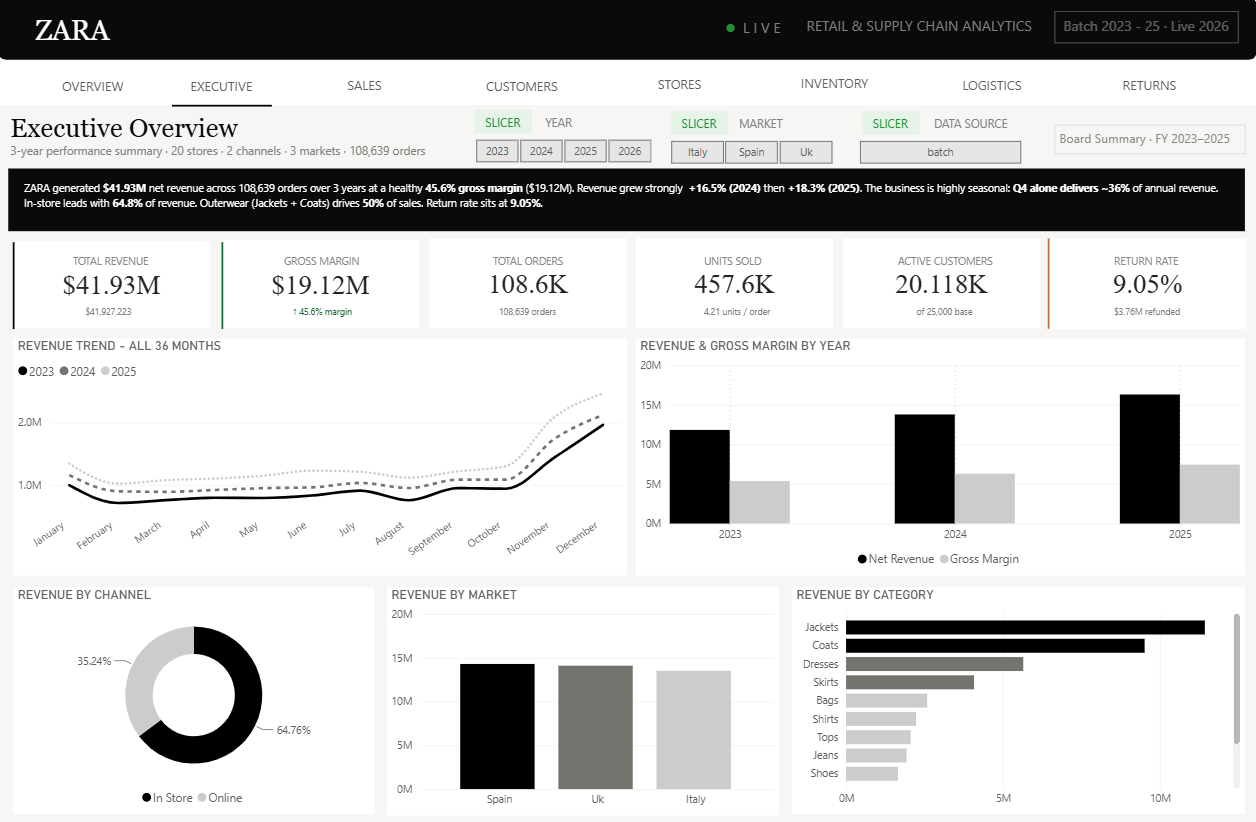

What the dashboard file says about the page in this screenshot:
{"tool":"powerbi","page":{"name":"EXECUTIVE","canvas":[1440,950],"ordinal":1},"visuals":[{"type":"shape","box":[1.7,1.7,1438.3,71.7],"z":0},{"type":"textbox","box":[39.2,16.2,112.2,48.6],"z":1000},{"type":"shape","box":[0,73.3,1440,51.7],"z":2000},{"type":"textbox","box":[10,129.1,292.7,50.9],"z":3000},{"type":"textbox","box":[10,162.7,527.3,29.1],"z":4000},{"type":"textbox","box":[1208.3,146.7,218.3,33.3],"z":5000},{"type":"shape","box":[13.3,196.7,1413.3,71.7],"z":6000},{"type":"textbox","box":[26.1,204.3,1382.6,58],"z":7000},{"type":"card","fields":{"Values":["_Measures.Active Customers"]},"box":[967.7,277.7,224.6,102.3],"z":8000},{"type":"card","fields":{"Values":["_Measures.Units Sold"]},"box":[730,277.7,225.4,102.3],"z":9000},{"type":"card","fields":{"Values":["_Measures.Net Revenue"]},"box":[18.5,280,224.6,100],"z":10000},{"type":"card","fields":{"Values":["_Measures.Gross Margin"]},"box":[256.9,279.2,225.4,100.8],"z":11000},{"type":"card","fields":{"Values":["_Measures.Total Orders"]},"box":[493.8,277.7,225.4,102.3],"z":12000},{"type":"shape","box":[12.3,280.8,12.3,99.2],"z":13000},{"type":"shape","box":[250.8,280.8,12.3,99.2],"z":14000},{"type":"textbox","box":[80.8,288.5,109.2,29.2],"z":15000},{"type":"textbox","box":[95.4,346.2,71.5,29.2],"z":16000},{"type":"textbox","box":[323.1,288.5,110,29.2],"z":17000},{"type":"textbox","box":[561.5,288.5,92.3,29.2],"z":18000},{"type":"textbox","box":[803.1,288.5,90.8,29.2],"z":19000},{"type":"textbox","box":[803.1,346.2,90.8,27.7],"z":20000},{"type":"textbox","box":[1023.8,288.5,139.2,29.2],"z":21000},{"type":"textbox","box":[1045.4,346.2,86.9,27.7],"z":22000},{"type":"card","fields":{"Values":["_Measures.Return Rate"]},"box":[1202.3,276.9,224.6,103.1],"z":23000},{"type":"textbox","box":[1271.5,288.5,96.9,29.2],"z":24000},{"type":"textbox","box":[1271.5,346.2,96.9,27.7],"z":25000},{"type":"shape","box":[1196.2,276.9,12.3,103.1],"z":26000},{"type":"textbox","box":[333.1,346.2,80.8,27.7],"z":27000},{"type":"textbox","box":[569.2,346.2,84.6,27.7],"z":28000},{"type":"lineChart","title":"REVENUE TREND - ALL 36 MONTHS","fields":{"Category":["gold dim_date.full_date.Variation.Date Hierarchy.Year","gold dim_date.full_date.Variation.Date Hierarchy.Quarter","gold dim_date.full_date.Variation.Date Hierarchy.Month","gold dim_date.full_date.Variation.Date Hierarchy.Day"],"Series":["gold dim_date.year"],"Y":["_Measures.Net Revenue"]},"box":[18.8,391.3,701.4,271],"z":29000},{"type":"clusteredColumnChart","title":"REVENUE & GROSS MARGIN BY YEAR","fields":{"Category":["gold dim_date.full_date.Variation.Date Hierarchy.Year"],"Y":["_Measures.Net Revenue","_Measures.Gross Margin"]},"box":[730.4,391.3,695.7,271],"z":30000},{"type":"donutChart","title":"REVENUE BY CHANNEL","fields":{"Category":["gold dim_channel.channel_name"],"Y":["_Measures.Net Revenue"]},"box":[18.8,675.4,413,259.4],"z":31000},{"type":"columnChart","title":"REVENUE BY MARKET","fields":{"Category":["gold dim_customers.country"],"Y":["_Measures.Net Revenue"]},"box":[446.4,675.4,447.8,260.9],"z":32000},{"type":"barChart","title":"REVENUE BY CATEGORY","fields":{"Category":["gold dim_products.category"],"Y":["_Measures.Net Revenue"]},"box":[908.7,675.4,517.4,259.4],"z":33000},{"type":"shape","box":[200,103,114,45],"z":34000},{"type":"actionButton","box":[182.9,75.7,147.4,53.9],"z":35000},{"type":"actionButton","box":[330.4,74.3,179.7,54.1],"z":36000},{"type":"actionButton","box":[510.1,75.7,179.7,54.1],"z":37000},{"type":"actionButton","box":[689.6,73.2,180,54.7],"z":38000},{"type":"actionButton","box":[867.5,71.6,180,54.7],"z":39000},{"type":"actionButton","box":[1047.6,73.8,180,54.3],"z":40000},{"type":"actionButton","box":[1226.7,75,180,54.4],"z":41000},{"type":"actionButton","box":[35.6,75.6,147.4,53.7],"z":42000},{"type":"textbox","box":[1208.3,16.7,210,36.7],"z":43000},{"type":"textbox","box":[911.7,16.7,283.3,36.7],"z":44000},{"type":"textbox","box":[826.7,16.7,85,36.7],"z":45000},{"type":"slicer","fields":{"Values":["gold fact_sales.source_system"]},"box":[960,158.5,234.6,34.6],"z":46000},{"type":"textbox","box":[988.2,130.9,65.5,27.3],"z":47000},{"type":"textbox","box":[1065.4,131.2,107.5,27.2],"z":48000},{"type":"slicer","fields":{"Values":["gold dim_customers.country"]},"box":[743.6,158.2,234.5,34.5],"z":49000},{"type":"textbox","box":[770,130.9,65.5,27.3],"z":50000},{"type":"textbox","box":[842.2,131.1,70,31.1],"z":51000},{"type":"slicer","fields":{"Values":["gold dim_date.full_date.Variation.Date Hierarchy.Year"]},"box":[520.9,157.3,250,34.5],"z":52000},{"type":"textbox","box":[546.4,130,65.5,27.3],"z":53000},{"type":"textbox","box":[620.9,130,49.1,27.3],"z":54000}]}

Visuals, with their boxes in screenshot pixels (x1, y1, x2, y2), scaled from the page's 1440x950 canvas onto the 1256x822 screenshot:
shape: x1=1 y1=1 x2=1255 y2=64
textbox: x1=34 y1=14 x2=132 y2=56
shape: x1=0 y1=63 x2=1255 y2=108
textbox: x1=9 y1=112 x2=264 y2=156
textbox: x1=9 y1=141 x2=469 y2=166
textbox: x1=1054 y1=127 x2=1244 y2=156
shape: x1=12 y1=170 x2=1244 y2=232
textbox: x1=23 y1=177 x2=1229 y2=227
card - _Measures.Active Customers: x1=844 y1=240 x2=1040 y2=329
card - _Measures.Units Sold: x1=637 y1=240 x2=833 y2=329
card - _Measures.Net Revenue: x1=16 y1=242 x2=212 y2=329
card - _Measures.Gross Margin: x1=224 y1=242 x2=421 y2=329
card - _Measures.Total Orders: x1=431 y1=240 x2=627 y2=329
shape: x1=11 y1=243 x2=21 y2=329
shape: x1=219 y1=243 x2=229 y2=329
textbox: x1=70 y1=250 x2=166 y2=275
textbox: x1=83 y1=300 x2=146 y2=325
textbox: x1=282 y1=250 x2=378 y2=275
textbox: x1=490 y1=250 x2=570 y2=275
textbox: x1=700 y1=250 x2=780 y2=275
textbox: x1=700 y1=300 x2=780 y2=324
textbox: x1=893 y1=250 x2=1014 y2=275
textbox: x1=912 y1=300 x2=988 y2=324
card - _Measures.Return Rate: x1=1049 y1=240 x2=1245 y2=329
textbox: x1=1109 y1=250 x2=1194 y2=275
textbox: x1=1109 y1=300 x2=1194 y2=324
shape: x1=1043 y1=240 x2=1054 y2=329
textbox: x1=291 y1=300 x2=361 y2=324
textbox: x1=496 y1=300 x2=570 y2=324
"REVENUE TREND - ALL 36 MONTHS" lineChart: x1=16 y1=339 x2=628 y2=573
"REVENUE & GROSS MARGIN BY YEAR" clusteredColumnChart: x1=637 y1=339 x2=1244 y2=573
"REVENUE BY CHANNEL" donutChart: x1=16 y1=584 x2=377 y2=809
"REVENUE BY MARKET" columnChart: x1=389 y1=584 x2=780 y2=810
"REVENUE BY CATEGORY" barChart: x1=793 y1=584 x2=1244 y2=809
shape: x1=174 y1=89 x2=274 y2=128
actionButton: x1=160 y1=66 x2=288 y2=112
actionButton: x1=288 y1=64 x2=445 y2=111
actionButton: x1=445 y1=66 x2=602 y2=112
actionButton: x1=601 y1=63 x2=758 y2=111
actionButton: x1=757 y1=62 x2=914 y2=109
actionButton: x1=914 y1=64 x2=1071 y2=111
actionButton: x1=1070 y1=65 x2=1227 y2=112
actionButton: x1=31 y1=65 x2=160 y2=112
textbox: x1=1054 y1=14 x2=1237 y2=46
textbox: x1=795 y1=14 x2=1042 y2=46
textbox: x1=721 y1=14 x2=795 y2=46
slicer - gold fact_sales.source_system: x1=837 y1=137 x2=1042 y2=167
textbox: x1=862 y1=113 x2=919 y2=137
textbox: x1=929 y1=114 x2=1023 y2=137
slicer - gold dim_customers.country: x1=649 y1=137 x2=853 y2=167
textbox: x1=672 y1=113 x2=729 y2=137
textbox: x1=735 y1=113 x2=796 y2=140
slicer - gold dim_date.full_date.Variation.Date Hierarchy.Year: x1=454 y1=136 x2=672 y2=166
textbox: x1=477 y1=112 x2=534 y2=136
textbox: x1=542 y1=112 x2=584 y2=136
